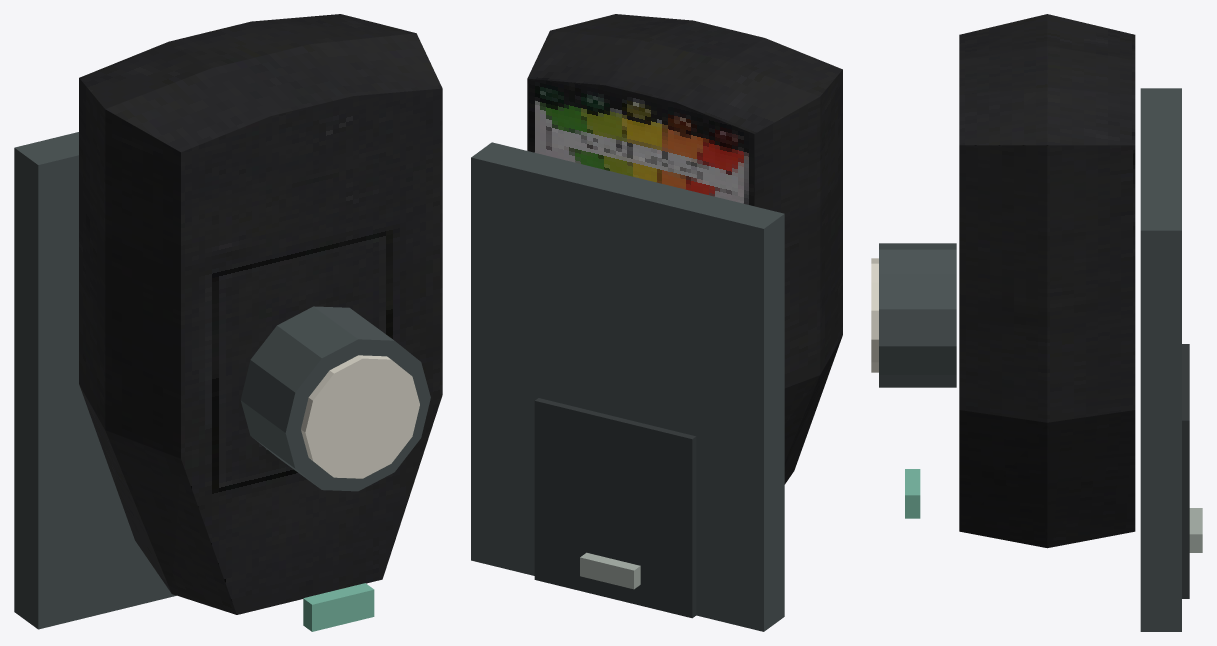
Rendered from blender_motion_sensor_1.glb.
3 renders of one model, left to right at view 1: azimuth 30°, elevation 25°; view 2: azimuth 150°, elevation 25°; view 3: azimuth 270°, elevation 25°, orthographic. The views are drawn at different scales.
Parts seen in each view (by area): view 1: blender_motion_sensor_1; view 2: blender_motion_sensor_1; view 3: blender_motion_sensor_1.
Part boxes in pixels (<box>): blender_motion_sensor_1: <box>14,14,442,631</box>; blender_motion_sensor_1: <box>471,14,842,631</box>; blender_motion_sensor_1: <box>871,14,1202,631</box>.
Bounding box in the file's own units: 0.065 × 0.1053 × 0.064.
1 material, 1 textured.
